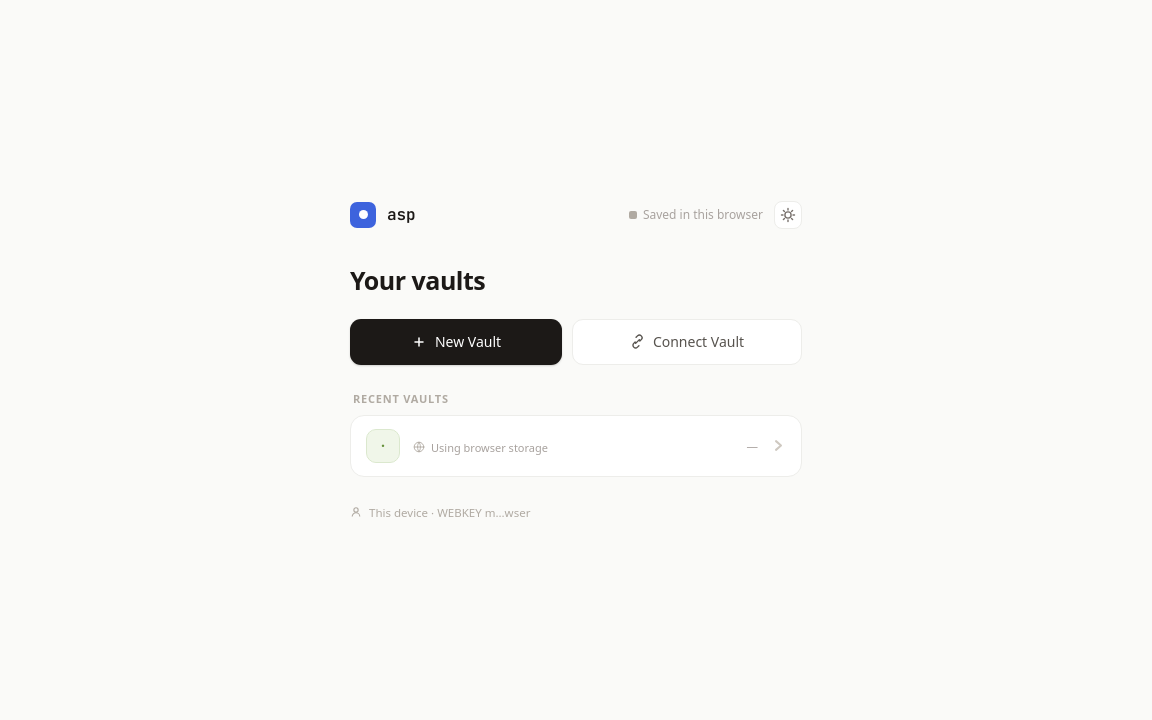
Test: App on the web (OPFS, no Tauri) › Share shows an unavailable message (no socket on browser vaults) and never hangs on Generating…
Click the text "Using browser storage" at (490, 447), box 431,440 -> 548,454
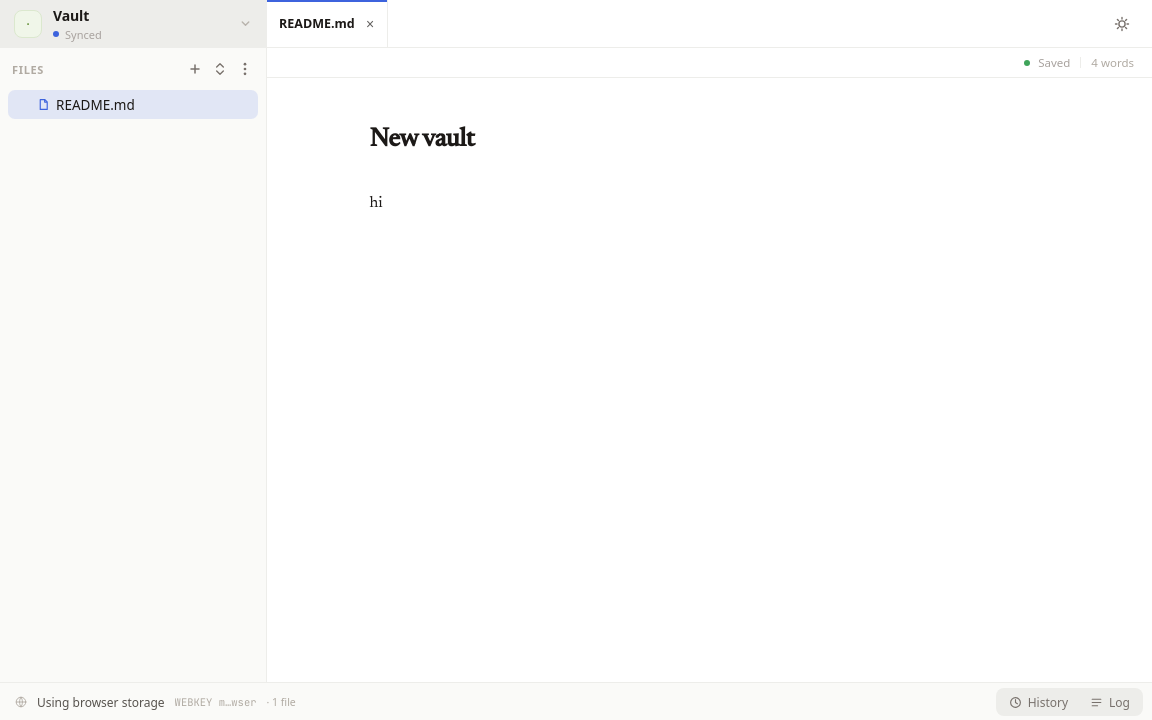
Now the text "Files" is shown, box 12,62 -> 44,76
Click the element with test id "vault-switcher" at (133, 24), box 0,0 -> 266,47
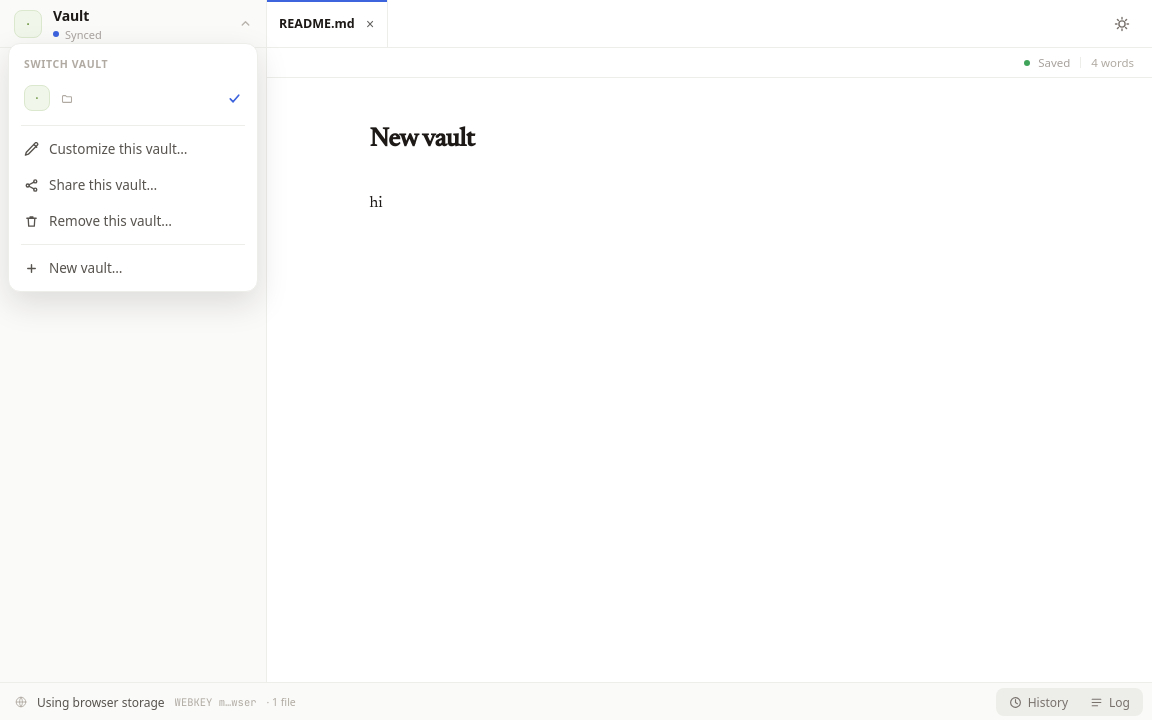
Click the text "Share this vault…" at (103, 185), box 49,176 -> 157,194
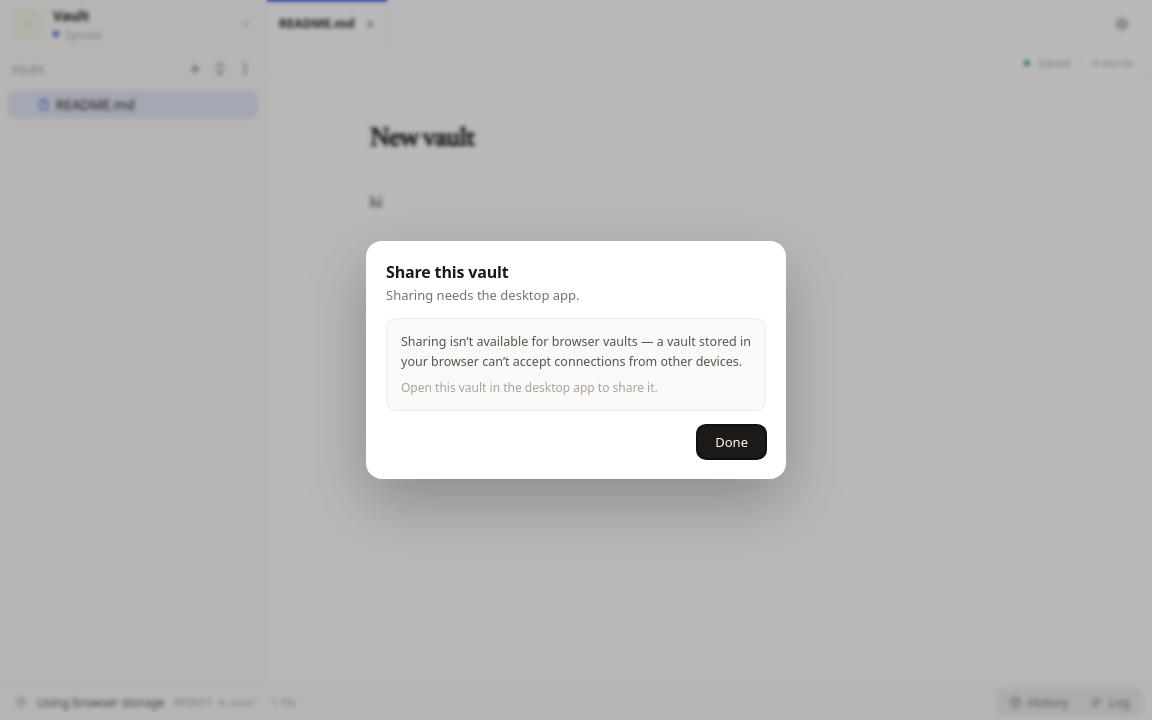
Now the text "Sharing isn’t available for browser vaults" is shown, box 401,333 -> 751,370
Now the text "Open this vault in the desktop app to share it." is shown, box 401,379 -> 658,396
Note: Modal still closes on Escape.
Press Escape in the button "Done", box 697,425 -> 766,459
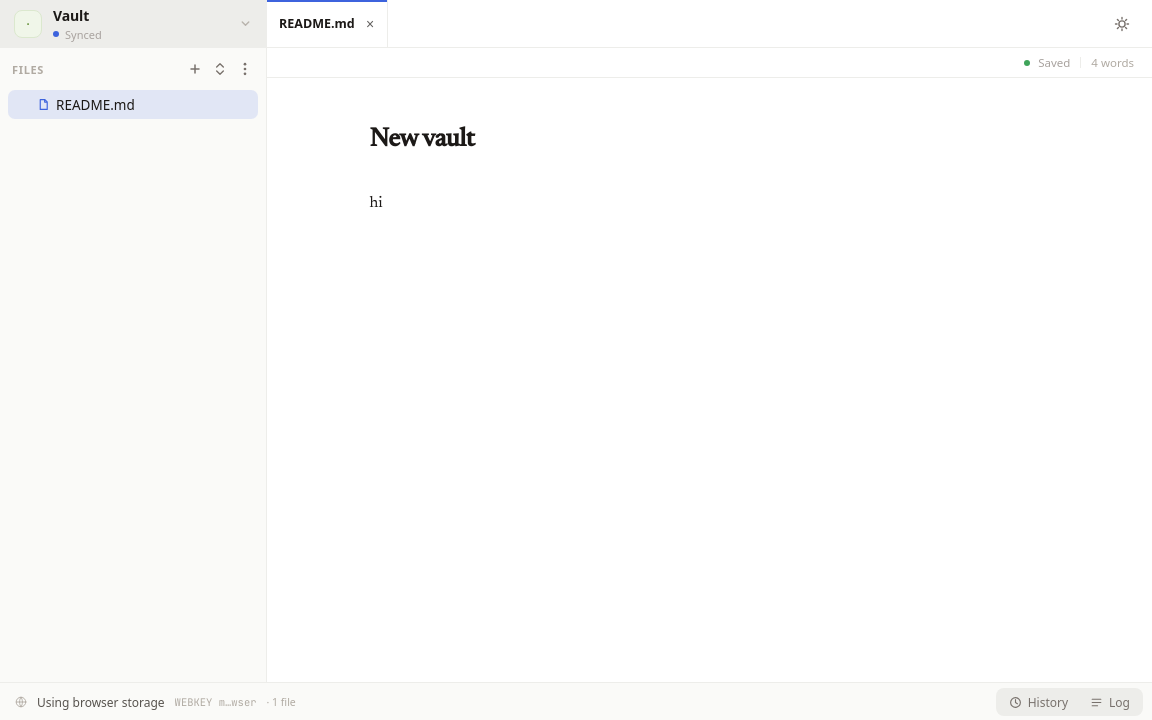
Now the text "Share this vault" is gone
